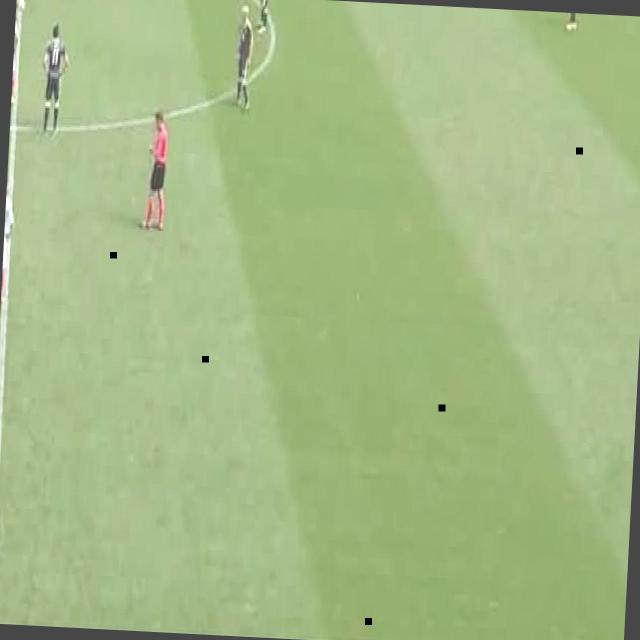ball: (17, 0, 25, 12)
player-white: (140, 112, 170, 232), (39, 24, 71, 134), (232, 4, 255, 112), (0, 175, 18, 302), (10, 5, 22, 109), (256, 0, 271, 30), (565, 13, 582, 31)
